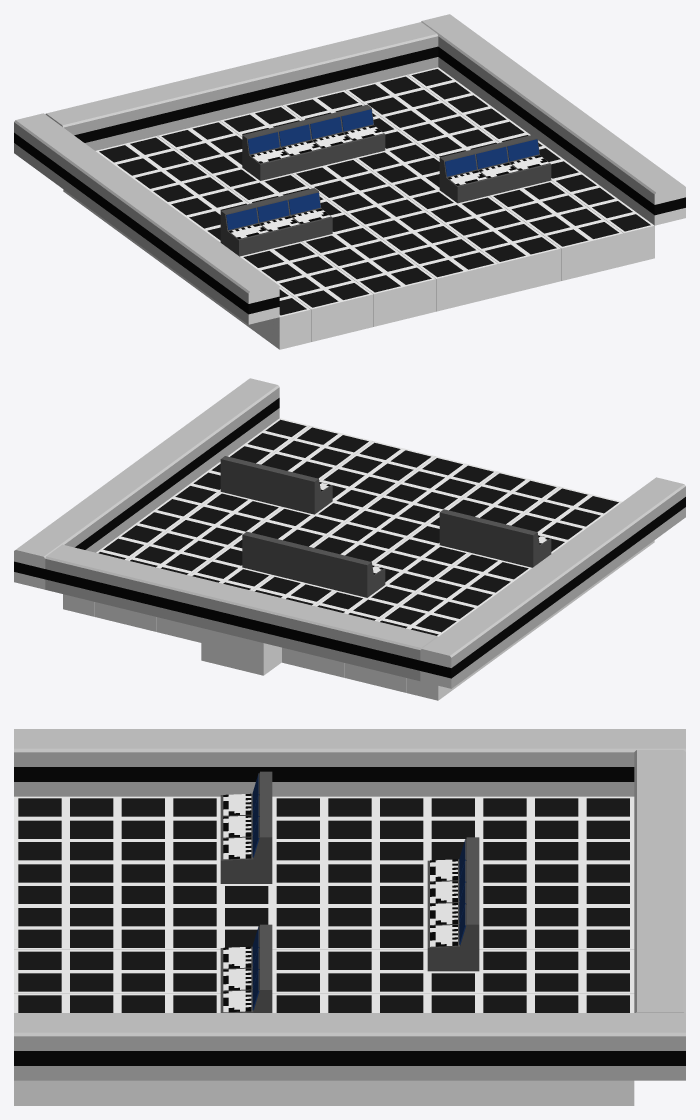
File: bridgeLarge0.fbx
3 views of the same model, one above another, from view 1: azimuth 30°, elevation 25°; view 2: azimuth 150°, elevation 25°; view 3: azimuth 270°, elevation 25° (orthographic). The views are drawn at different scales.
Visible parts, largest first — view 1: Cube.183, Cube.192, Cube.008, Cube.013, Cube.005, Cube.002, Cube.020, Cube.019, Cube.015, Cube.016, Cube.023, Cube.017 (+130 smaller); view 2: Cube.187, Cube.008, Cube.013, Cube.005, Cube.173, Cube.162, Cube.166, Cube.168, Cube.171, Cube.188, Cube.001, Cube.170 (+130 smaller); view 3: Cube.174, Cube.176, Cube.182, Cube.193, Cube.202, Cube.205, Cube.207, Cube.175, Cube.177, Cube.178, Cube.180, Cube.181 (+156 smaller).
Part boxes in pixels (bbox=[...]): Cube.183: bbox=[230, 272, 279, 324]; Cube.192: bbox=[636, 172, 685, 225]; Cube.008: bbox=[439, 150, 488, 203]; Cube.013: bbox=[242, 127, 291, 180]; Cube.005: bbox=[220, 203, 269, 256]; Cube.002: bbox=[261, 296, 310, 349]; Cube.020: bbox=[418, 258, 467, 311]; Cube.019: bbox=[481, 243, 529, 296]; Cube.015: bbox=[293, 288, 342, 341]; Cube.016: bbox=[356, 273, 404, 326]; Cube.023: bbox=[543, 228, 592, 280]; Cube.017: bbox=[325, 281, 373, 334]; Cube.187: bbox=[420, 636, 469, 688]; Cube.008: bbox=[283, 471, 332, 514]; Cube.013: bbox=[336, 554, 385, 597]; Cube.005: bbox=[502, 524, 551, 567]; Cube.173: bbox=[389, 628, 437, 680]; Cube.162: bbox=[45, 544, 93, 597]; Cube.166: bbox=[264, 598, 311, 650]; Cube.168: bbox=[170, 575, 217, 627]; Cube.171: bbox=[295, 605, 343, 658]; Cube.188: bbox=[14, 536, 62, 589]; Cube.001: bbox=[232, 590, 280, 642]; Cube.170: bbox=[326, 613, 374, 665]; Cube.174: bbox=[582, 729, 634, 796]; Cube.176: bbox=[427, 729, 479, 796]; Cube.182: bbox=[65, 729, 117, 796]; Cube.193: bbox=[65, 1013, 117, 1080]; Cube.202: bbox=[220, 1013, 272, 1080]; Cube.205: bbox=[427, 1013, 479, 1080]; Cube.207: bbox=[582, 1013, 634, 1080]; Cube.175: bbox=[531, 729, 582, 796]; Cube.177: bbox=[479, 729, 530, 796]; Cube.178: bbox=[272, 729, 323, 796]; Cube.180: bbox=[324, 729, 375, 796]; Cube.181: bbox=[376, 729, 427, 796].
Bounding box in the file's own units: 2800 × 400 × 2600.
